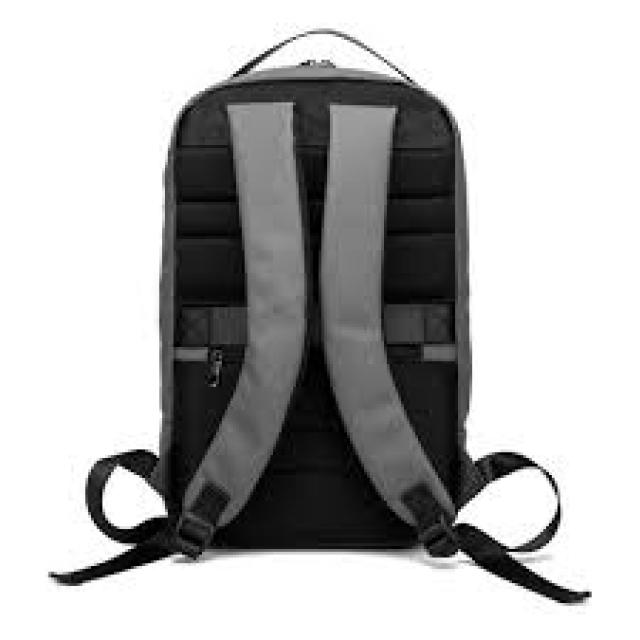backpack: (47, 27, 593, 604)
